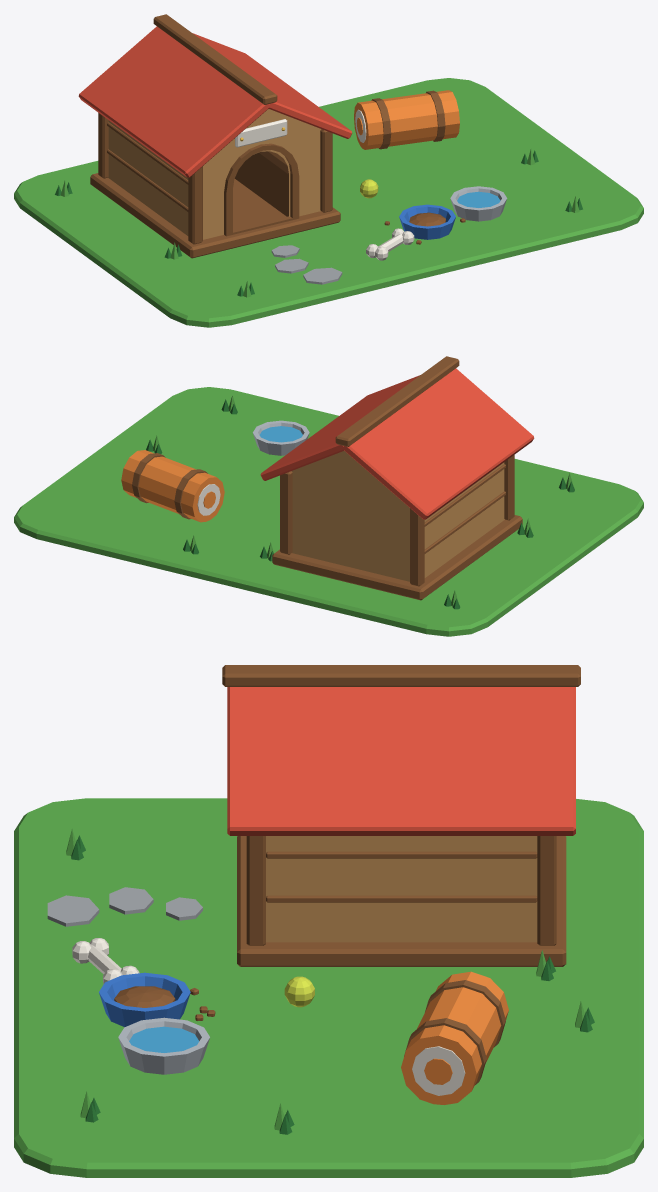
Rendered from doghouse-yard-set.glb.
3 views of the same model, one above another, from view 1: azimuth 30°, elevation 25°; view 2: azimuth 150°, elevation 25°; view 3: azimuth 270°, elevation 25° (orthographic). The views are drawn at different scales.
Visible parts, largest first — view 1: GrassPatch, Roof, Doghouse_Body, Doghouse_Platform, DogBed_Roll, Doghouse_ArchTrim, FoodBowl, WaterBowl, Doghouse_Post_LF, Doghouse_Post_RF, NamePlate, Doghouse_Post_LB (+2 smaller); view 2: GrassPatch, Roof, Doghouse_Body, Doghouse_Platform, DogBed_Roll, Doghouse_Post_LB, Doghouse_Post_RB, WaterBowl, Doghouse_Post_LF, WaterBowl_Water, Doghouse_Plank_L0, Doghouse_Plank_L1 (+3 smaller); view 3: GrassPatch, Roof, Doghouse_Body, Doghouse_Platform, DogBed_Roll, WaterBowl, FoodBowl, Doghouse_Post_RF, Doghouse_Post_RB, Doghouse_Plank_R1, Doghouse_Plank_R0, DogBed_Spiral (+7 smaller).
Boxes of the visible parts, left/top/right/bottom form: GrassPatch: left=14, top=78, right=643, bottom=327; Roof: left=78, top=14, right=352, bottom=177; Doghouse_Body: left=108, top=109, right=321, bottom=239; Doghouse_Platform: left=90, top=173, right=340, bottom=258; DogBed_Roll: left=354, top=90, right=459, bottom=149; Doghouse_ArchTrim: left=224, top=143, right=299, bottom=236; FoodBowl: left=399, top=204, right=455, bottom=239; WaterBowl: left=450, top=186, right=507, bottom=221; Doghouse_Post_LF: left=188, top=166, right=202, bottom=244; Doghouse_Post_RF: left=320, top=129, right=332, bottom=212; NamePlate: left=235, top=119, right=287, bottom=147; Doghouse_Post_LB: left=98, top=113, right=108, bottom=178; GrassPatch: left=14, top=387, right=643, bottom=636; Roof: left=260, top=356, right=534, bottom=519; Doghouse_Body: left=291, top=451, right=504, bottom=581; Doghouse_Platform: left=272, top=515, right=522, bottom=600; DogBed_Roll: left=121, top=450, right=224, bottom=522; Doghouse_Post_LB: left=410, top=508, right=424, bottom=586; Doghouse_Post_RB: left=280, top=471, right=292, bottom=554; WaterBowl: left=252, top=420, right=309, bottom=455; Doghouse_Post_LF: left=504, top=455, right=514, bottom=520; WaterBowl_Water: left=259, top=426, right=302, bottom=442; Doghouse_Plank_L0: left=424, top=491, right=505, bottom=553; Doghouse_Plank_L1: left=424, top=464, right=505, bottom=526; GrassPatch: left=14, top=798, right=643, bottom=1177; Roof: left=222, top=665, right=580, bottom=835; Doghouse_Body: left=266, top=836, right=537, bottom=942; Doghouse_Platform: left=237, top=836, right=566, bottom=966; DogBed_Roll: left=401, top=971, right=508, bottom=1104; WaterBowl: left=118, top=1017, right=210, bottom=1074; FoodBowl: left=99, top=972, right=190, bottom=1027; Doghouse_Post_RF: left=246, top=836, right=265, bottom=945; Doghouse_Post_RB: left=537, top=836, right=556, bottom=945; Doghouse_Plank_R1: left=266, top=851, right=537, bottom=858; Doghouse_Plank_R0: left=266, top=895, right=537, bottom=902; DogBed_Spiral: left=412, top=1046, right=465, bottom=1095.
Size of the model in its own units: 18 by 5.75 by 13.
